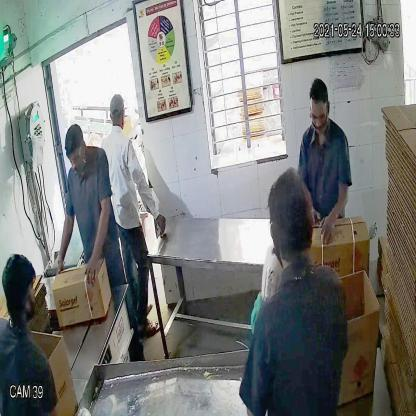goggles: (63, 146, 86, 168)
